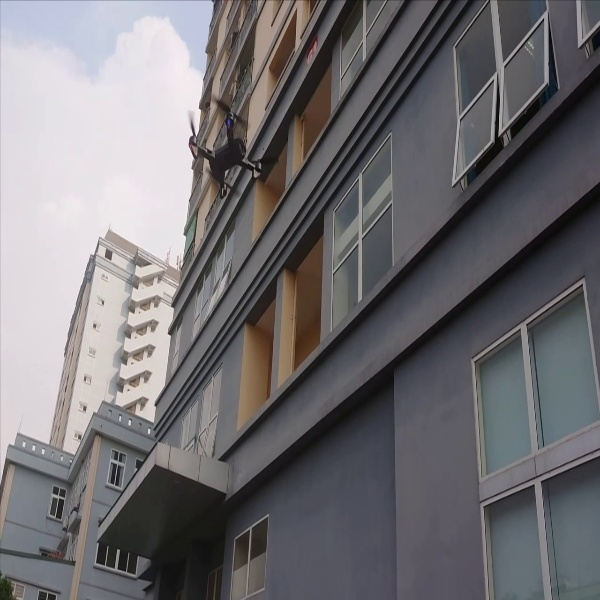drone: (174, 90, 272, 199)
